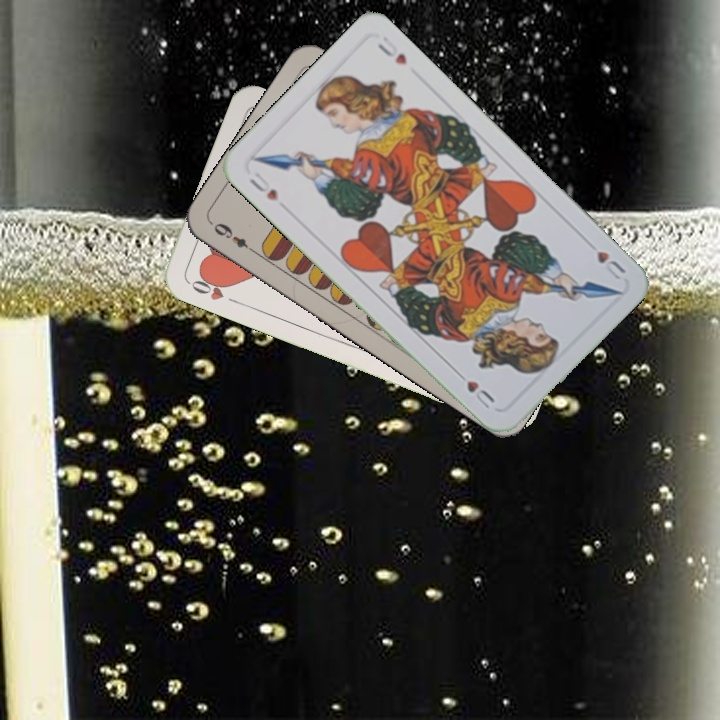E9: (207, 218, 260, 257)
HO: (185, 270, 242, 307)
HU: (593, 246, 628, 285), (245, 168, 281, 204)
